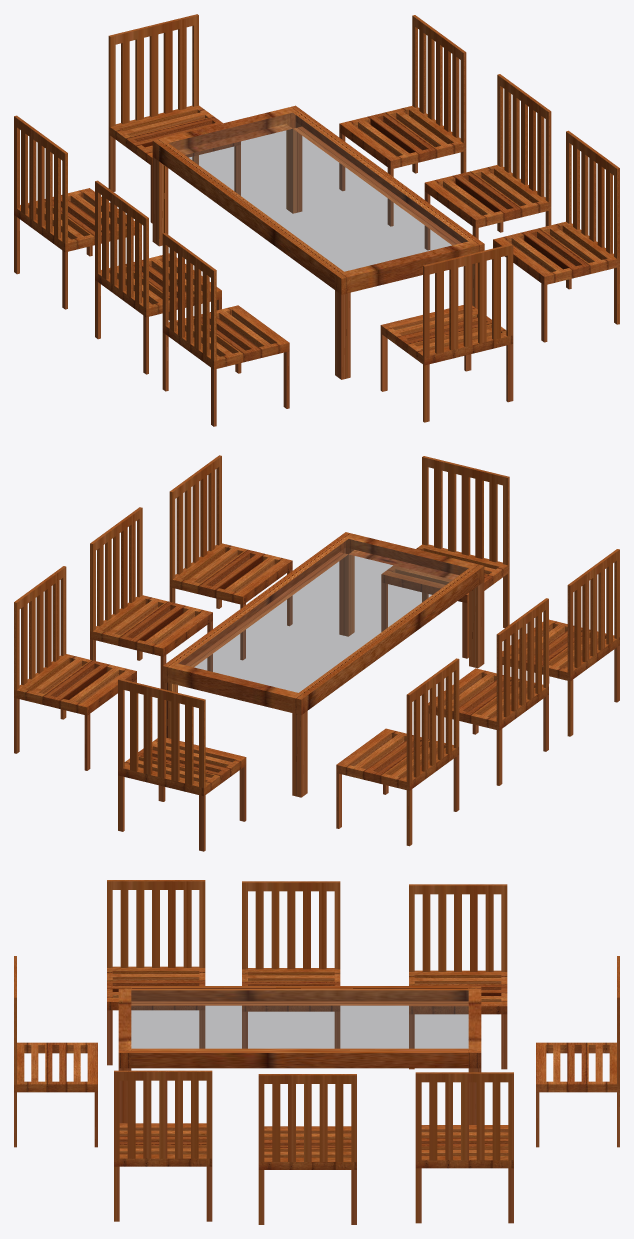
Rendered from meko 5.fbx.
3 renders of one model, top to bottom at view 1: azimuth 30°, elevation 25°; view 2: azimuth 150°, elevation 25°; view 3: azimuth 270°, elevation 25°, orthographic. The views are drawn at different scales.
Visible parts, largest first — view 1: pasted__pCube1, pasted__pasted__pasted__pasted__pCube2 (×2), pasted__pasted__pCube2 (×2), pasted__pasted__pasted__pasted__pasted__pasted__pCube2, pasted__pasted__pasted__pCube2, pasted__pasted__pasted__pasted__pasted__pCube2, pasted__pCube2; view 2: pasted__pCube1, pasted__pasted__pasted__pasted__pCube2 (×2), pasted__pasted__pCube2 (×2), pasted__pasted__pasted__pasted__pasted__pCube2, pasted__pasted__pasted__pCube2, pasted__pasted__pasted__pasted__pasted__pasted__pCube2, pasted__pCube2; view 3: pasted__pCube1, pasted__pasted__pCube2 (×2), pasted__pasted__pasted__pasted__pCube2 (×2), pasted__pCube2, pasted__pasted__pasted__pCube2, pasted__pasted__pasted__pasted__pasted__pCube2, pasted__pasted__pasted__pasted__pasted__pasted__pCube2.
Part boxes in pixels (left/top/right/bottom): pasted__pCube1: left=152, top=105, right=484, bottom=379; pasted__pasted__pasted__pasted__pCube2 (×2): left=424, top=74, right=619, bottom=342; pasted__pasted__pCube2 (×2): left=14, top=115, right=221, bottom=374; pasted__pasted__pasted__pasted__pasted__pasted__pCube2: left=380, top=244, right=513, bottom=422; pasted__pasted__pasted__pCube2: left=339, top=15, right=466, bottom=226; pasted__pasted__pasted__pasted__pasted__pCube2: left=108, top=14, right=240, bottom=223; pasted__pCube2: left=162, top=233, right=289, bottom=426; pasted__pCube1: left=162, top=532, right=484, bottom=797; pasted__pasted__pasted__pasted__pCube2 (×2): left=90, top=455, right=292, bottom=688; pasted__pasted__pCube2 (×2): left=336, top=598, right=548, bottom=846; pasted__pasted__pasted__pasted__pasted__pCube2: left=118, top=678, right=246, bottom=851; pasted__pasted__pasted__pCube2: left=14, top=566, right=136, bottom=770; pasted__pasted__pasted__pasted__pasted__pasted__pCube2: left=381, top=456, right=509, bottom=658; pasted__pCube2: left=502, top=549, right=619, bottom=736; pasted__pCube1: left=118, top=986, right=481, bottom=1124; pasted__pasted__pCube2 (×2): left=242, top=881, right=507, bottom=1069; pasted__pasted__pasted__pasted__pCube2 (×2): left=114, top=1070, right=356, bottom=1224; pasted__pCube2: left=107, top=880, right=205, bottom=1065; pasted__pasted__pasted__pCube2: left=415, top=1072, right=513, bottom=1223; pasted__pasted__pasted__pasted__pasted__pCube2: left=536, top=956, right=619, bottom=1147; pasted__pasted__pasted__pasted__pasted__pasted__pCube2: left=14, top=956, right=97, bottom=1147.
Bounding box in the file's own units: 19.53 × 6.98 × 25.63.
Materials: 2 (1 with a texture image).
